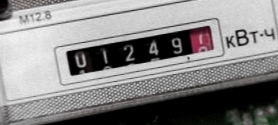0: (71, 49, 87, 71)
1: (96, 46, 109, 66)
2: (120, 43, 136, 64)
4: (145, 38, 158, 59)
7: (192, 27, 206, 47)
9: (167, 35, 183, 58)
screen: (44, 18, 223, 86)
